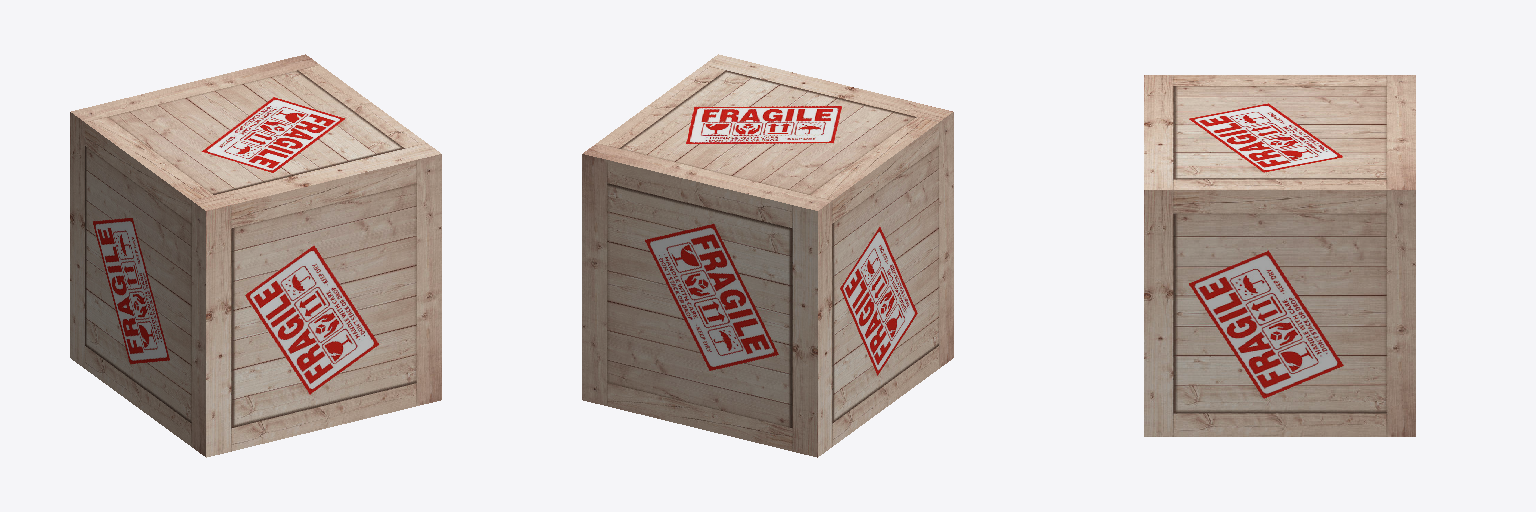
3 renders of one model, left to right at view 1: azimuth 30°, elevation 25°; view 2: azimuth 150°, elevation 25°; view 3: azimuth 270°, elevation 25°, orthographic.
Visible parts, largest first — view 1: Cube; view 2: Cube; view 3: Cube.
Part boxes in pixels (x1,y1,x2,y2): Cube: (70,54,441,457); Cube: (582,54,953,457); Cube: (1144,75,1415,436).
Bounding box in the file's own units: 10.34 × 10.34 × 10.34.
1 materials, 1 textured.